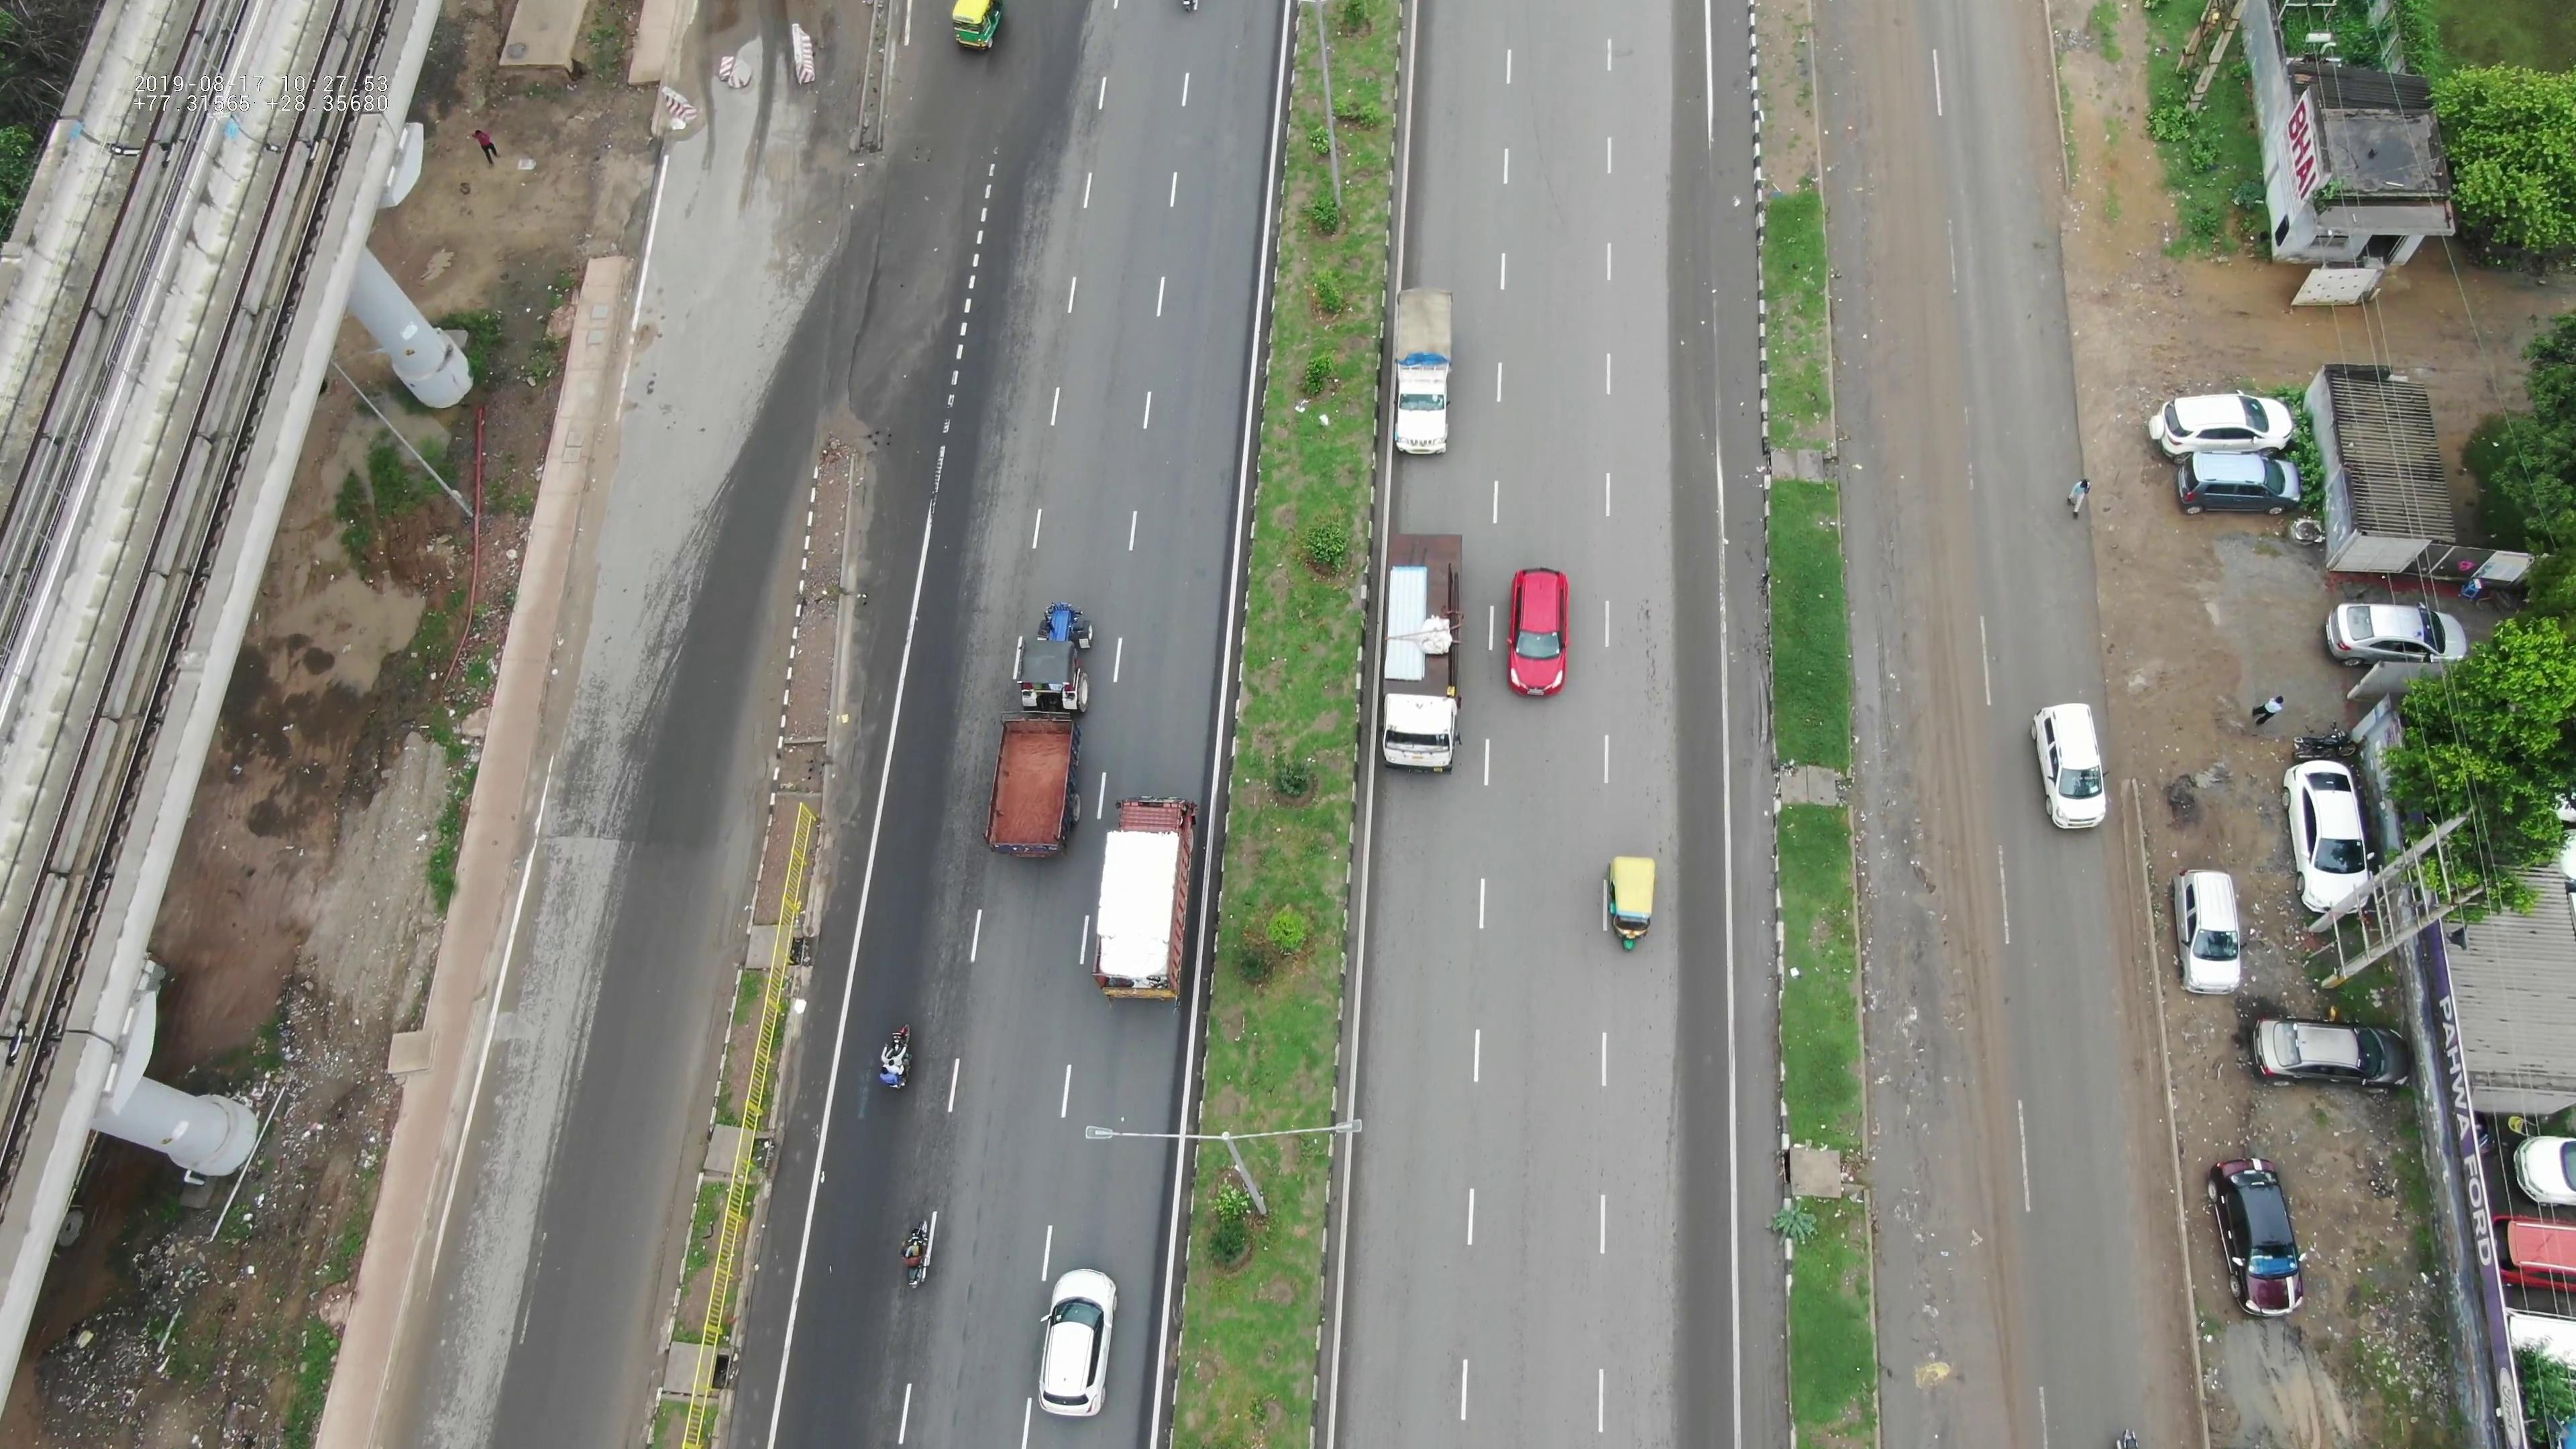Muddy_road: (1829, 492, 1978, 931), (1859, 980, 1994, 1426), (1831, 44, 1959, 441)
Waterlogging: (828, 248, 897, 402)
